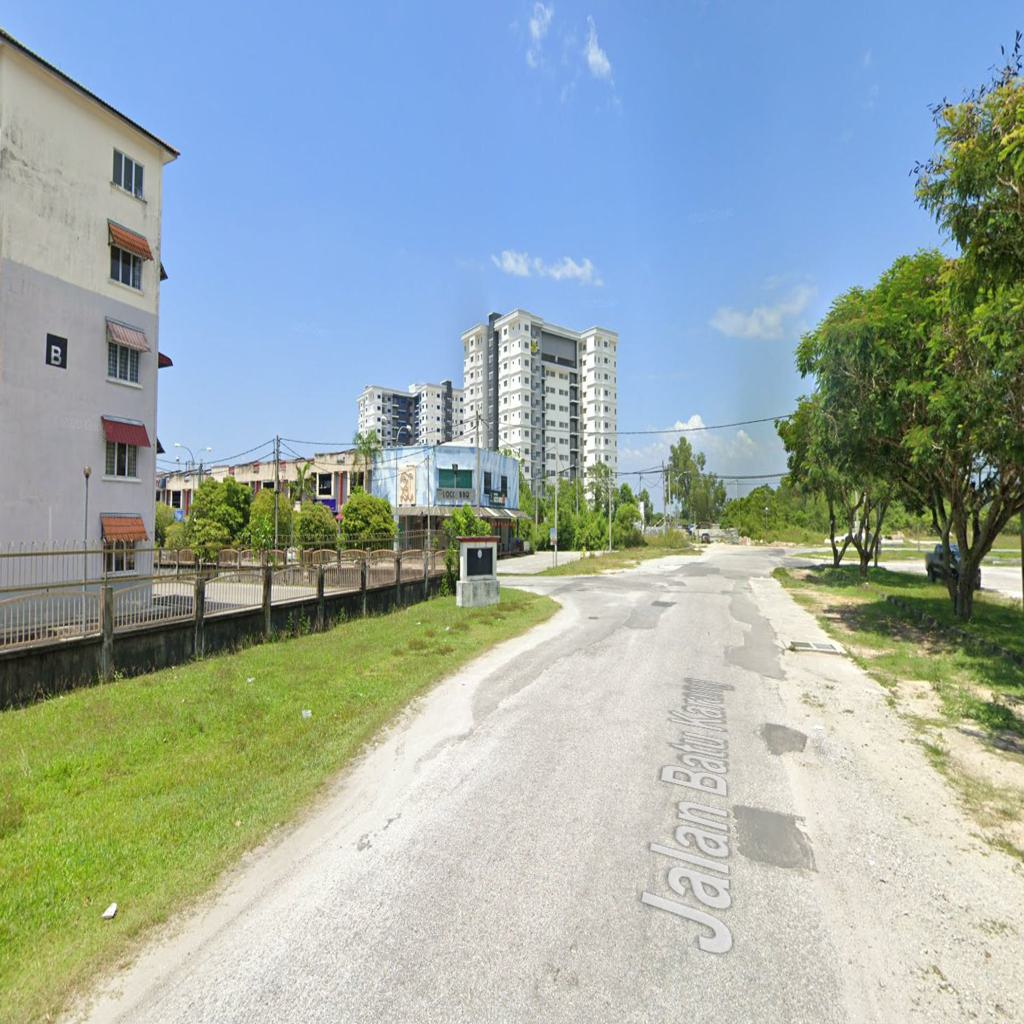Junction: (501, 559, 659, 640)
